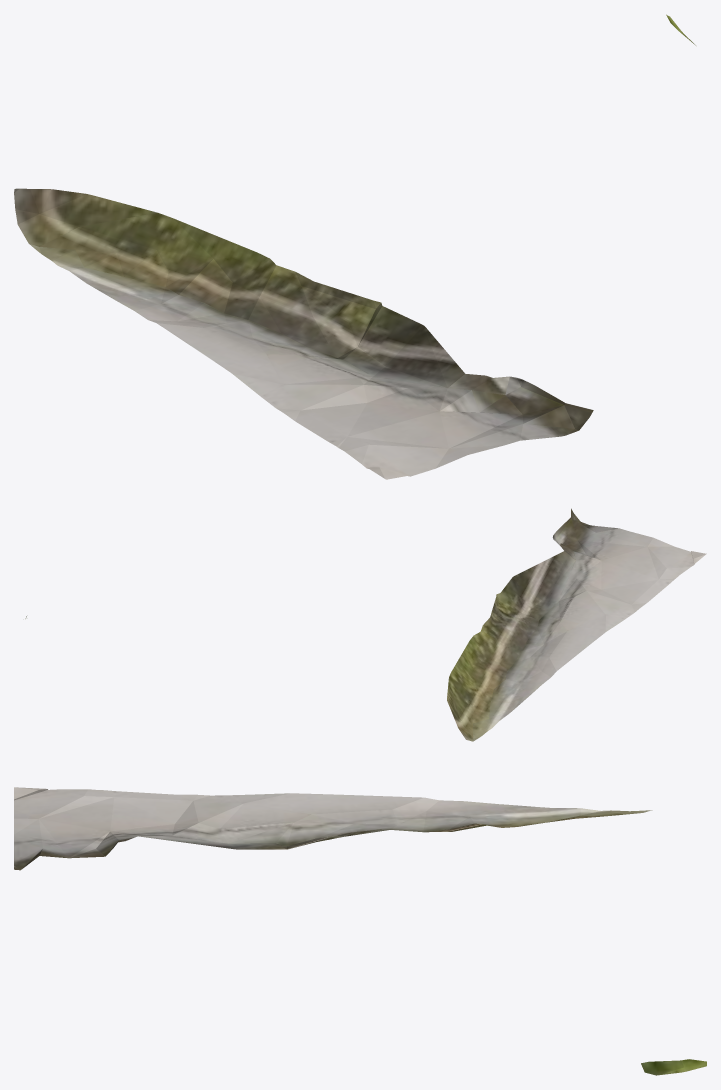
3 views of the same model, one above another, from view 1: azimuth 30°, elevation 25°; view 2: azimuth 150°, elevation 25°; view 3: azimuth 270°, elevation 25° (orthographic). The views are drawn at different scales.
Size of the model in its own units: 11.8 by 0.766 by 11.8.
1 material, 1 textured.
